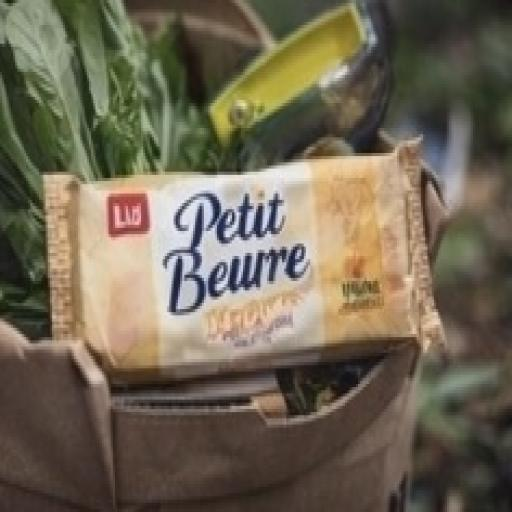petit-beurre: (14, 114, 493, 402)
